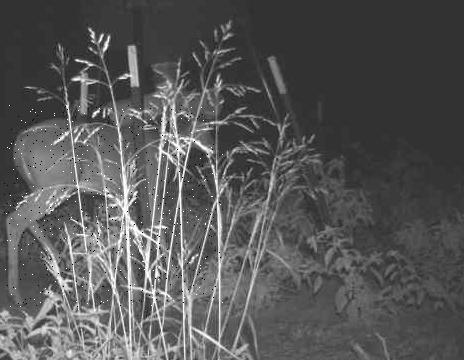Deer: (4, 105, 223, 307)
